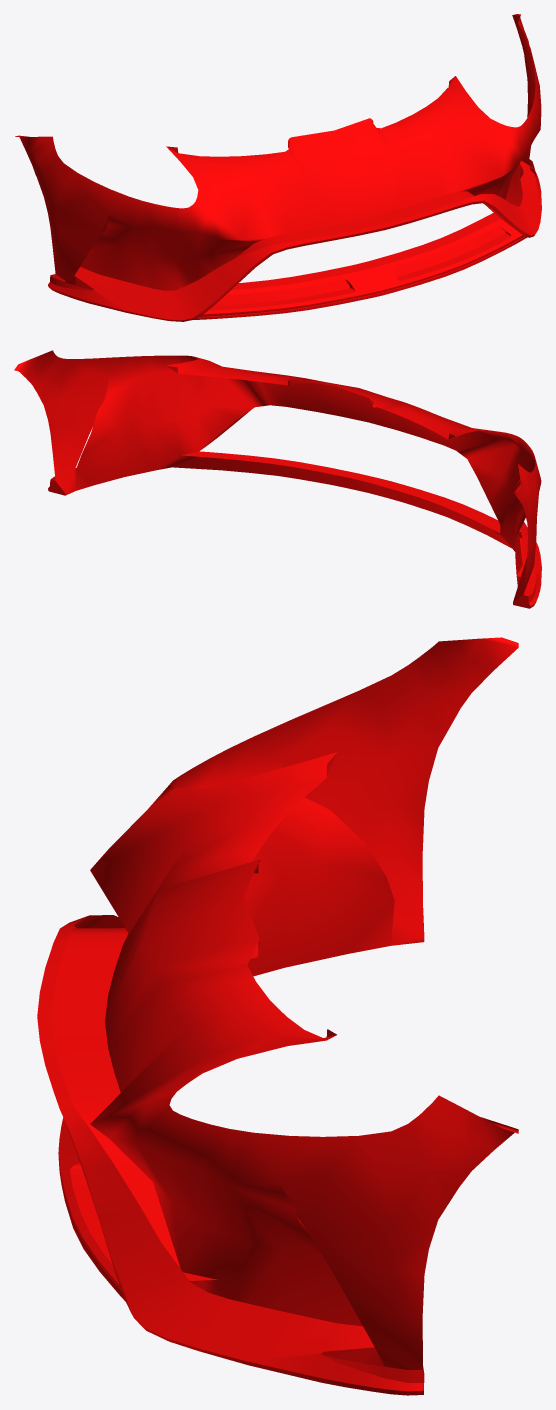
The model's file is FordGT_FB01_Trim.fbx.
3 views of the same model, one above another, from view 1: azimuth 30°, elevation 25°; view 2: azimuth 150°, elevation 25°; view 3: azimuth 270°, elevation 25° (orthographic). The views are drawn at different scales.
Visible parts, largest first — view 1: FordGT_FB01_Trim; view 2: FordGT_FB01_Trim; view 3: FordGT_FB01_Trim.
Part boxes in pixels (x1=…): FordGT_FB01_Trim: x1=15, y1=14, x2=541, y2=321; FordGT_FB01_Trim: x1=14, y1=350, x2=541, y2=608; FordGT_FB01_Trim: x1=37, y1=637, x2=518, y2=1395.
Bounding box in the file's own units: 190 × 53.23 × 78.82.
